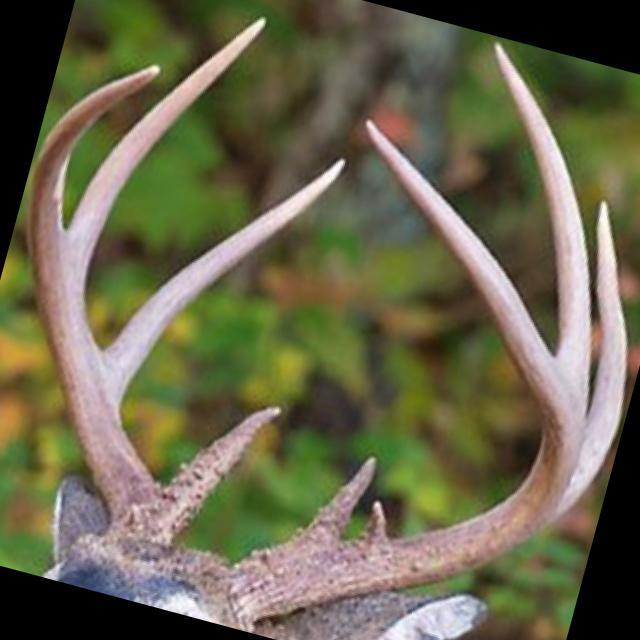E1: (358, 498, 389, 542)
L-F: (228, 118, 580, 633)
L-G1: (286, 456, 380, 544)
L-G2: (555, 199, 627, 518)
L-G3: (491, 40, 592, 419)
R-F: (26, 64, 177, 562)
R-G1: (166, 404, 282, 535)
R-G2: (103, 158, 348, 411)
R-G3: (66, 17, 268, 278)
